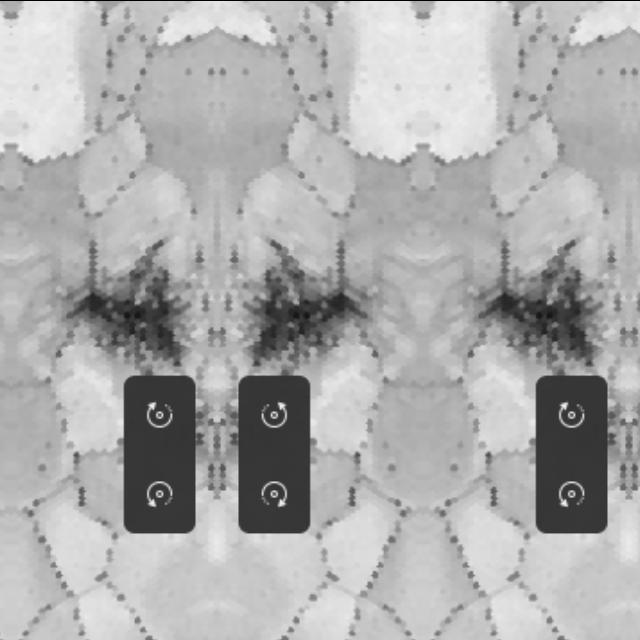good_void: (230, 236, 388, 372), (460, 236, 618, 372), (48, 236, 206, 372), (37, 459, 53, 475), (383, 459, 398, 475), (450, 459, 465, 475), (182, 67, 196, 77), (315, 154, 327, 165), (219, 65, 230, 77), (521, 154, 533, 165), (109, 154, 121, 165), (618, 65, 629, 77), (240, 67, 253, 77), (595, 67, 608, 77), (206, 65, 216, 77), (632, 65, 640, 77)
